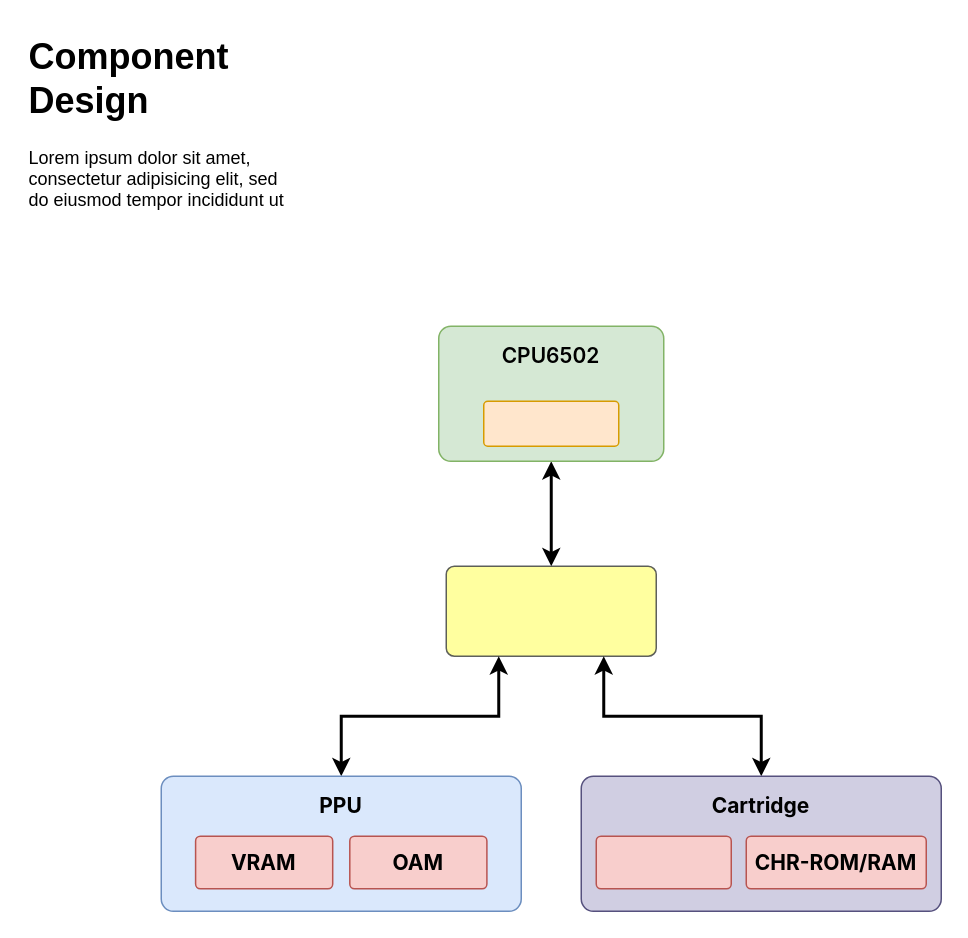
This 968x938 diagram has some shape labels left out. The shapes that lost their labels are listed below. From the top down, each one's centre as x and y in pixels, then its label:
the point at 550,423: WRAM
the point at 550,610: BUS Interface
the point at 663,862: PRG-ROM
